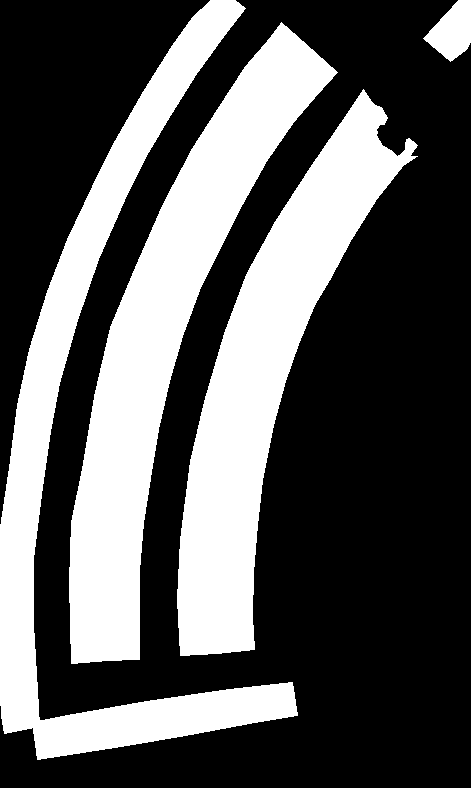parkingspot: (0, 0, 245, 733), (69, 22, 307, 663), (99, 45, 337, 660), (177, 89, 387, 655), (212, 135, 417, 653), (32, 682, 297, 759), (423, 0, 471, 61)
